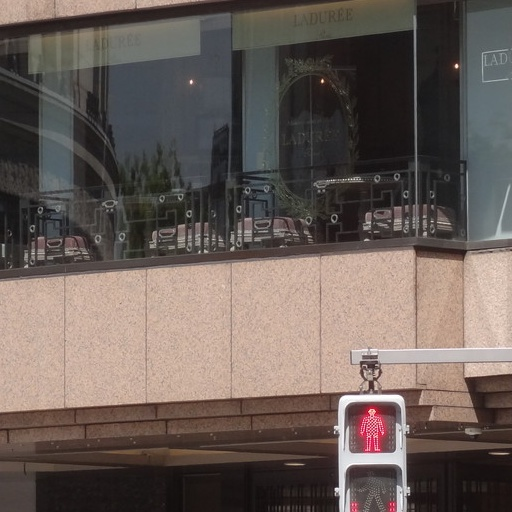Pedestrian_Signal_Red: (335, 384, 409, 505)
